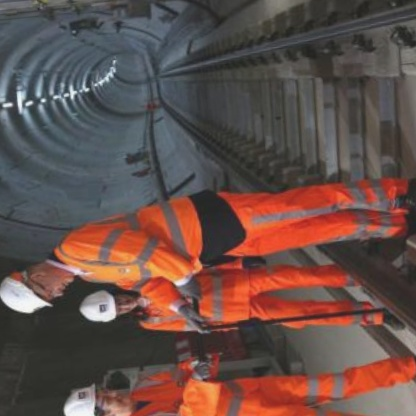vest: (53, 185, 251, 299), (124, 253, 271, 345), (108, 346, 276, 416)
white: (0, 260, 55, 322), (75, 286, 125, 334), (62, 380, 107, 416)
